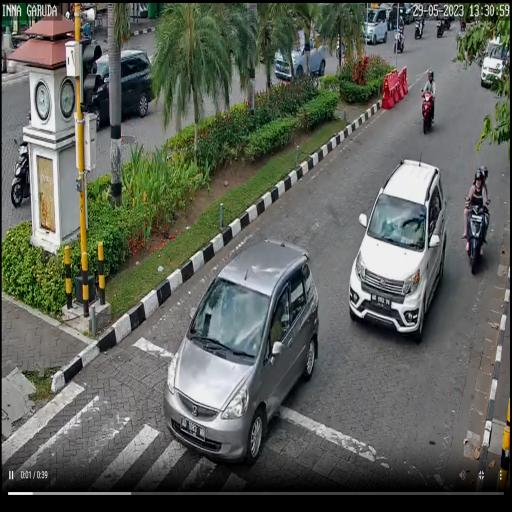mobil: (166, 231, 318, 461), (349, 156, 448, 335), (481, 42, 509, 88)
motor: (464, 195, 488, 275), (420, 88, 438, 135)
